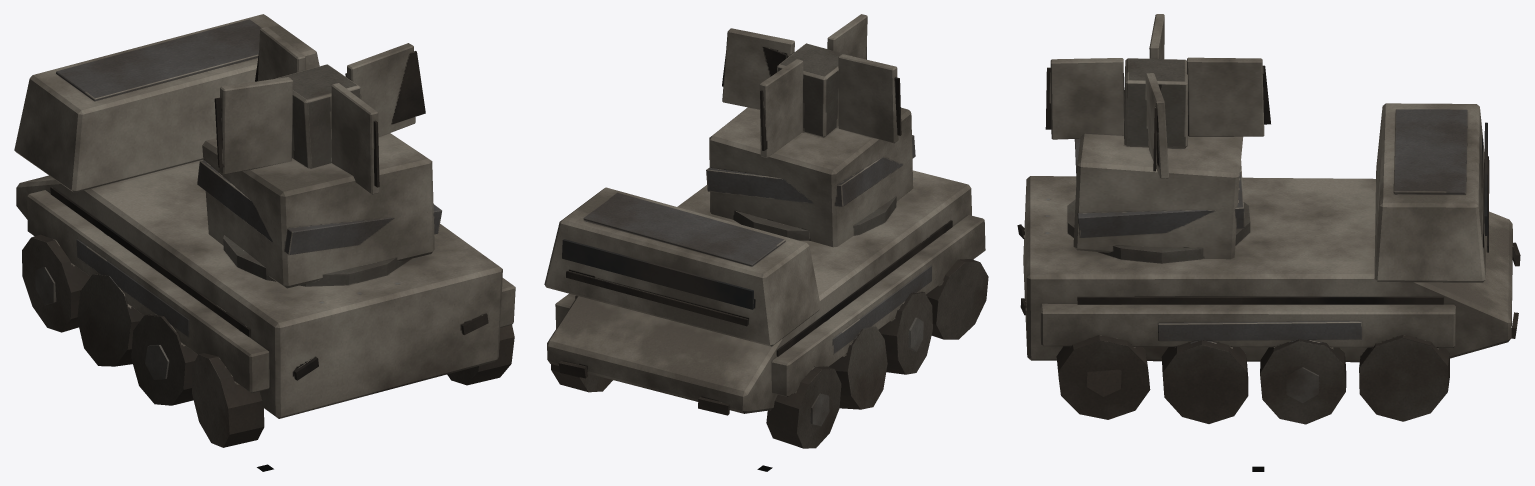
The model's file is ord_veil_wreck.fbx.
The picture shows the model from 3 angles, left to right: view 1: azimuth 30°, elevation 25°; view 2: azimuth 150°, elevation 25°; view 3: azimuth 270°, elevation 25°; orthographic projection. The views are drawn at different scales.
Visible parts, largest first — view 1: base_bar, array_bar, wheelL4_bar, wheelL3_bar, wheelL1_bar, wheelL2_bar, wheelR4_bar; view 2: base_bar, array_bar, wheelL1_bar, wheelL4_bar, wheelL2_bar, wheelL3_bar, wheelR1_bar; view 3: base_bar, array_bar, wheelR1_bar, wheelR4_bar, wheelR2_bar, wheelR3_bar.
Part boxes in pixels (box(x1,y1,x2,y2)): base_bar: box(14, 14, 515, 418); array_bar: box(197, 26, 441, 288); wheelL4_bar: box(192, 353, 264, 447); wheelL3_bar: box(131, 314, 197, 405); wheelL1_bar: box(22, 234, 90, 332); wheelL2_bar: box(77, 274, 143, 366); wheelR4_bar: box(447, 325, 514, 385); base_bar: box(544, 170, 985, 415); array_bar: box(706, 14, 915, 247); wheelL1_bar: box(766, 366, 841, 448); wheelL4_bar: box(926, 258, 988, 339); wheelL2_bar: box(828, 326, 887, 409); wheelL3_bar: box(878, 292, 932, 374); wheelR1_bar: box(551, 364, 612, 392); base_bar: box(1017, 103, 1520, 362); array_bar: box(1045, 14, 1270, 259); wheelR1_bar: box(1359, 335, 1449, 421); wheelR4_bar: box(1056, 335, 1150, 419); wheelR2_bar: box(1260, 339, 1346, 424); wheelR3_bar: box(1161, 340, 1248, 423).
Bounding box in the file's own units: 516 × 744 × 823.
2 materials, 2 textured.
